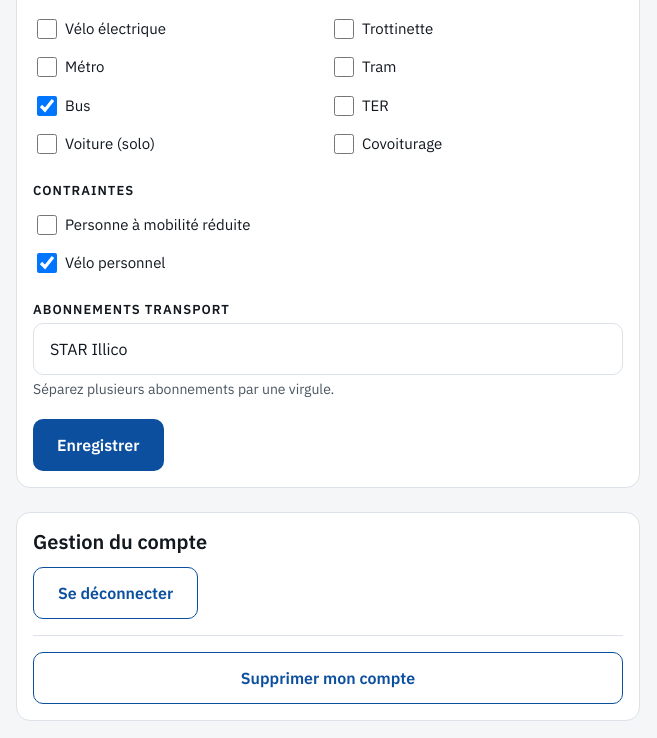
Test: ProfilePage › suppression de compte : "Annuler" revient à l’état initial sans appeler DELETE
The image size is (657, 738).
(page scrolled)
Click the button "Supprimer mon compte" at [328, 678], box [33,652,623,704]
(page scrolled)
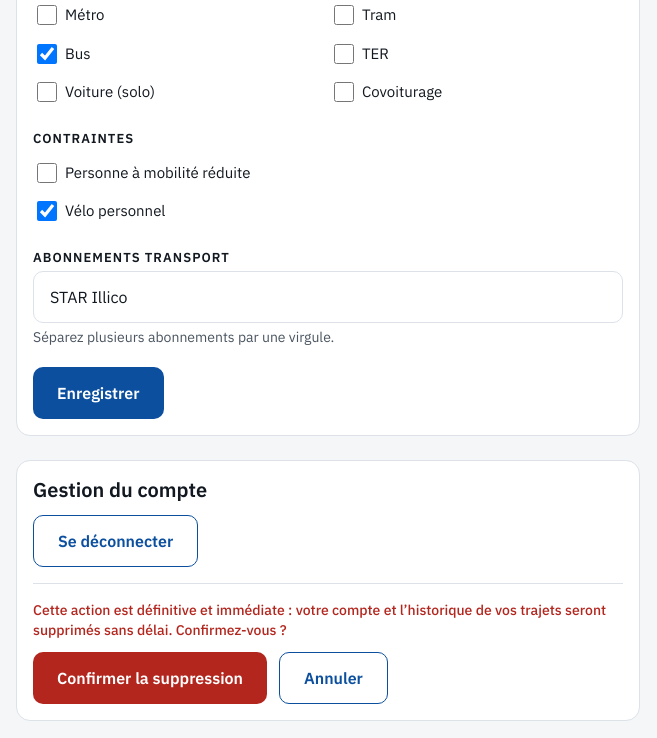
Click the button "Annuler" at [333, 678], box [279,652,388,704]
(page scrolled)
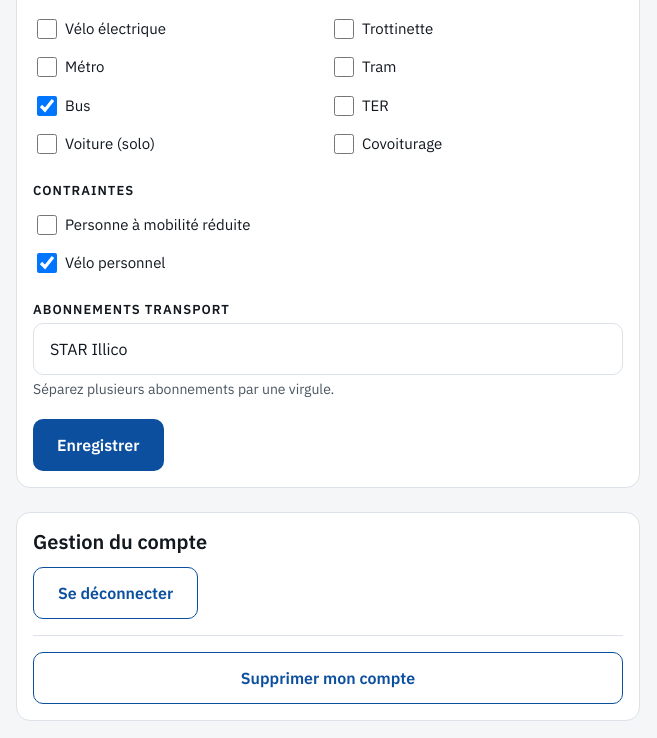
Check: the button "Supprimer mon compte" is shown, box [33,652,623,704]
